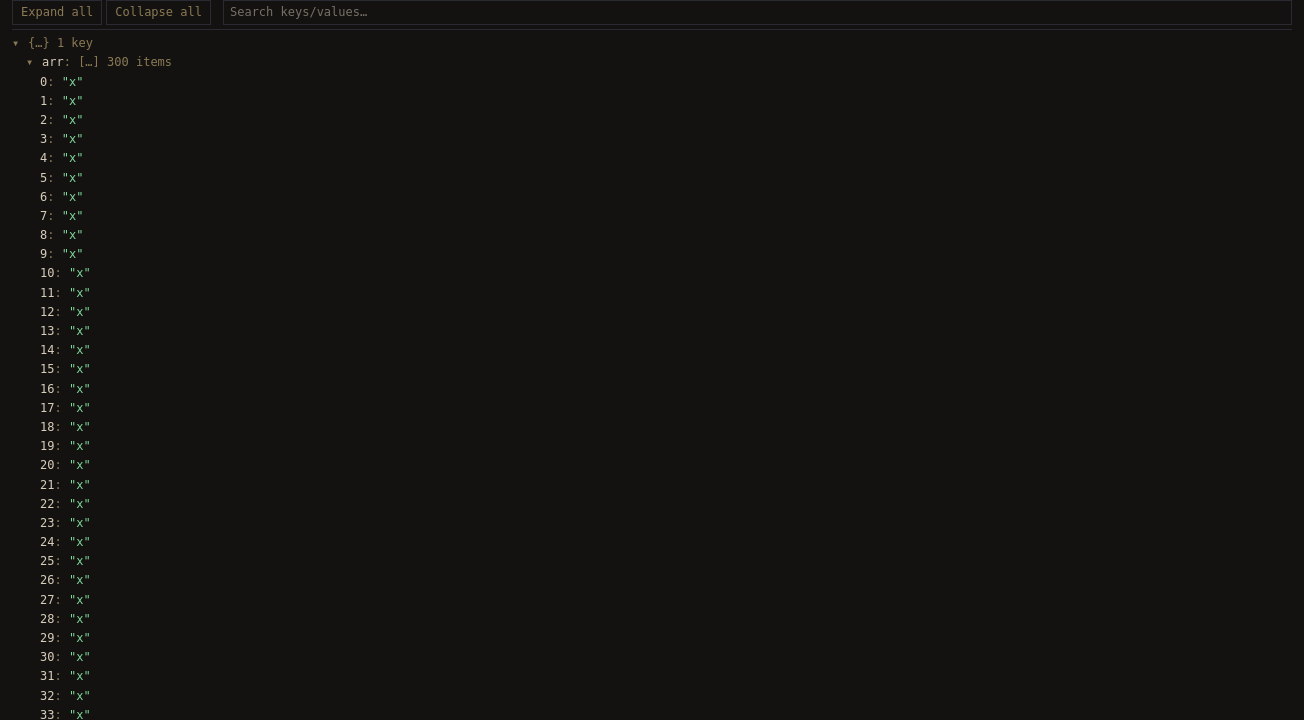
Test case: JsonTreeView toolbar — lazy large arrays › search reveals a matching entry past the first lazy page
Expected: the text "needle" is not shown
Step 1. Type "needle" into the field → (758, 13), box [223,0,1292,25]
(page scrolled)
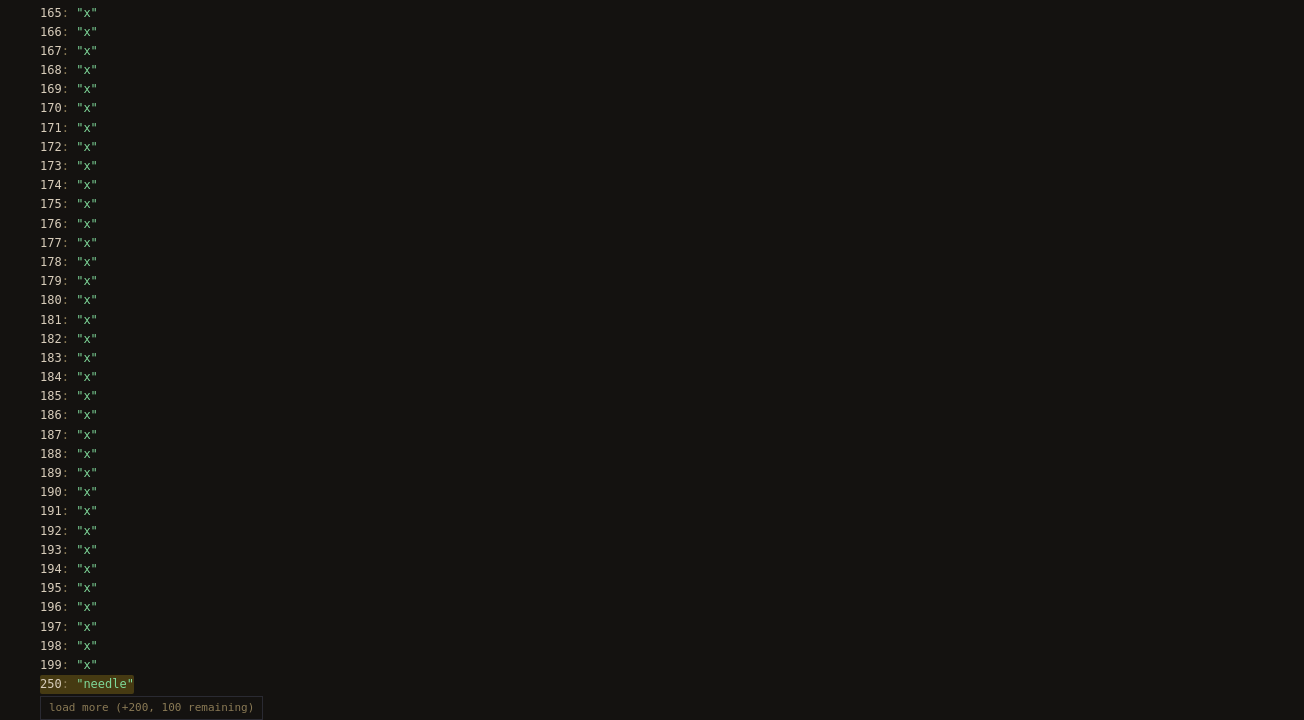
Result: the text "\"needle\"" is shown at [76,677,134,691]
